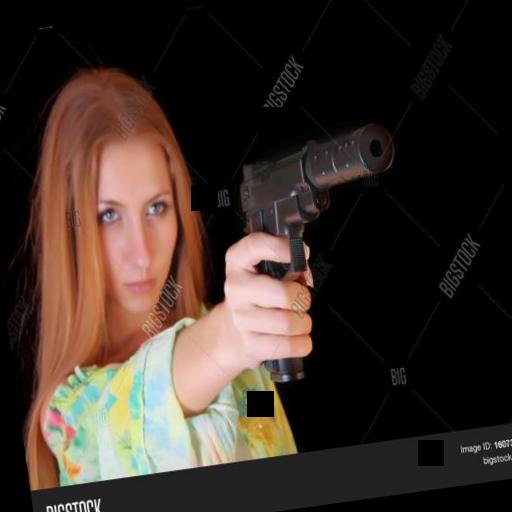Handgun: (228, 116, 424, 382)
